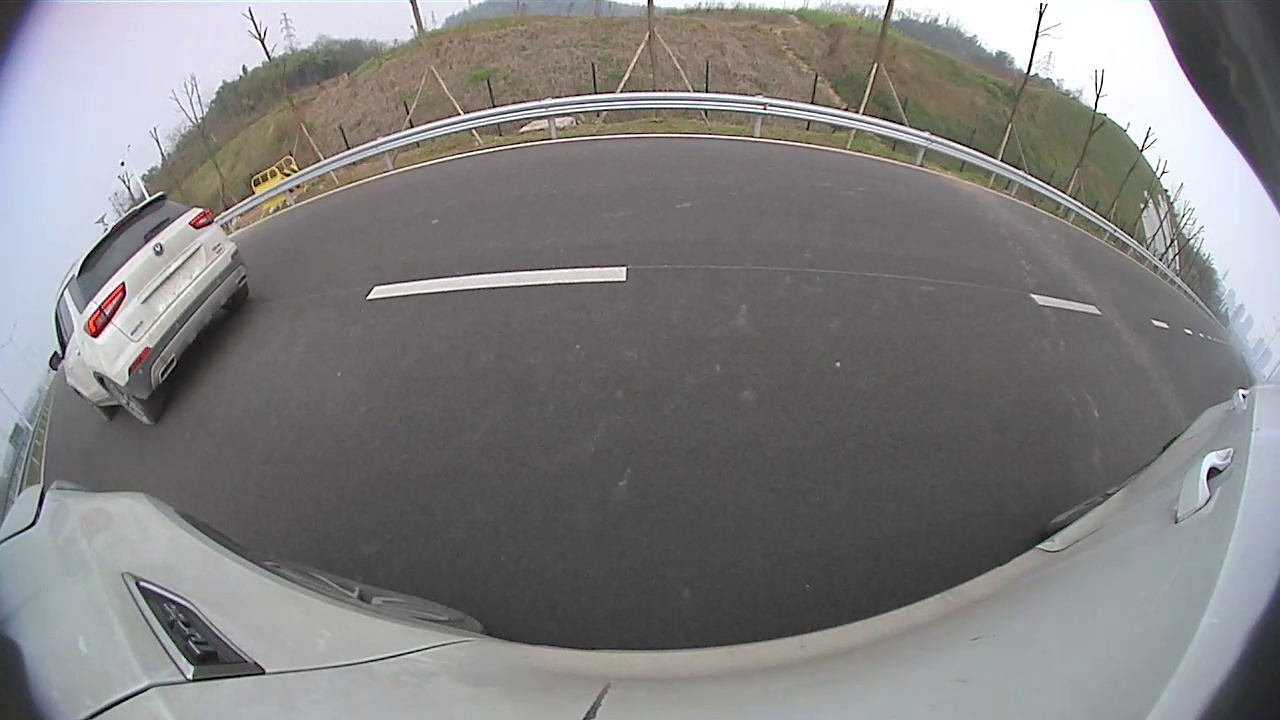car: (50, 192, 249, 426)
rear: (102, 375, 157, 426)
